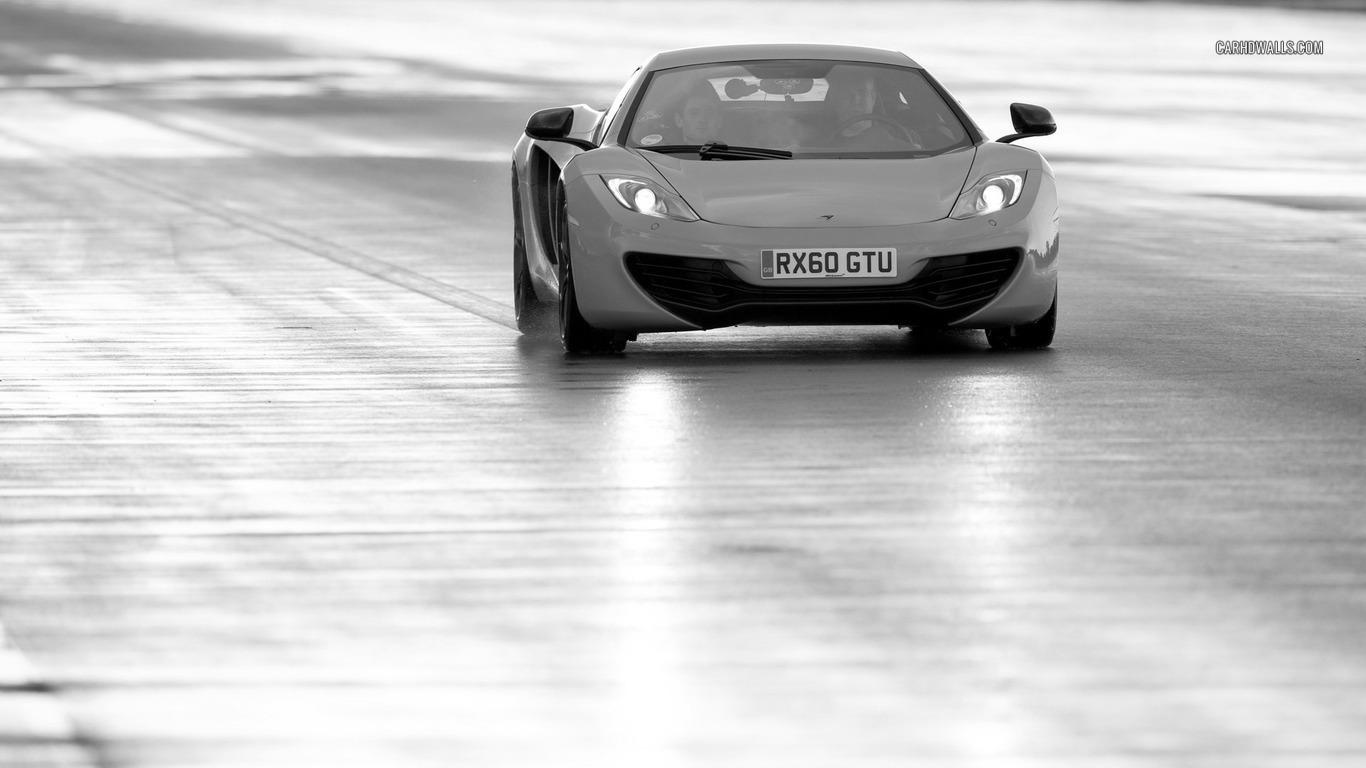car: (514, 43, 1063, 360)
